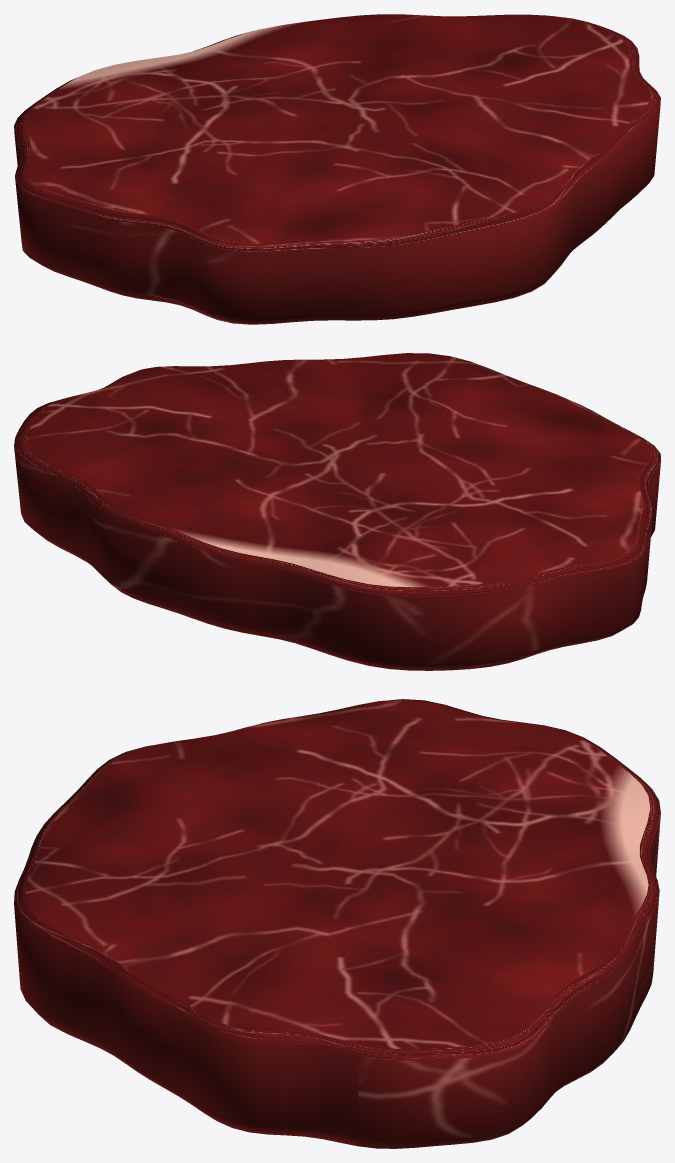
Rendered from RibeyeSteak_Raw_180x135x28mm.fbx.
3 views of the same model, one above another, from view 1: azimuth 30°, elevation 25°; view 2: azimuth 150°, elevation 25°; view 3: azimuth 270°, elevation 25° (orthographic). The views are drawn at different scales.
Visible parts, largest first — view 1: RibeyeSteak_Raw; view 2: RibeyeSteak_Raw; view 3: RibeyeSteak_Raw.
Boxes of the visible parts, bbox=[...] form: RibeyeSteak_Raw: bbox=[14, 14, 660, 324]; RibeyeSteak_Raw: bbox=[14, 353, 660, 670]; RibeyeSteak_Raw: bbox=[14, 699, 660, 1148].
Bounding box in the file's own units: 0.18 × 0.028 × 0.135.
Materials: 1 (1 with a texture image).
